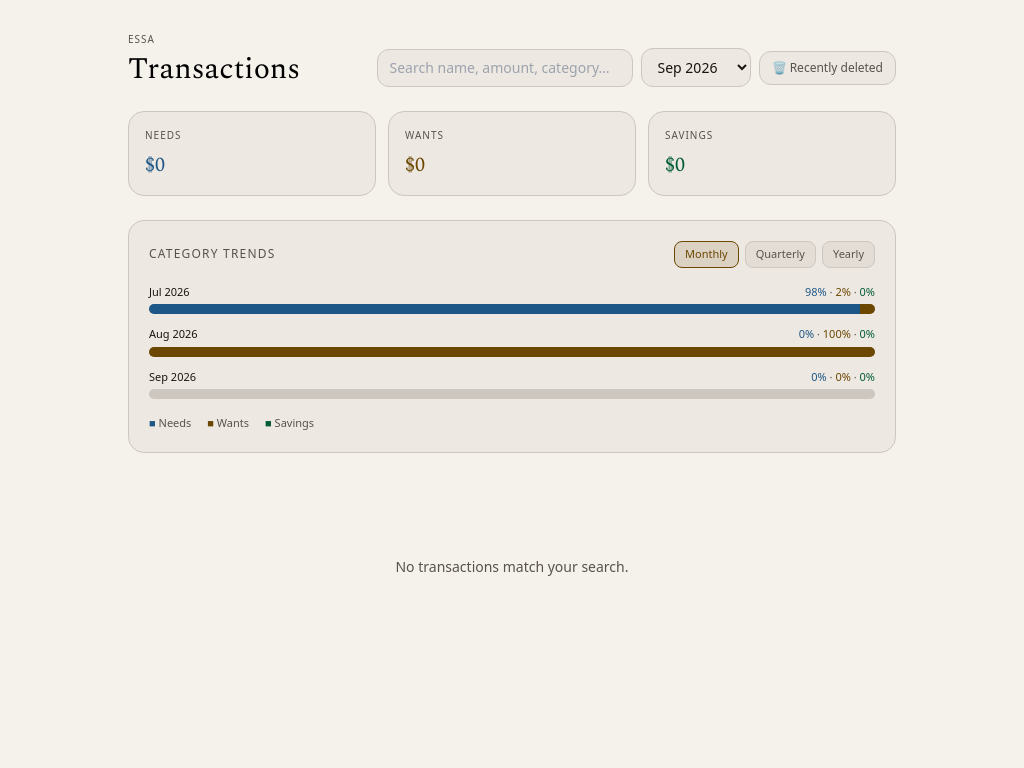
Test: 2. OVERCOUNT — an item that ended before the payday reads active on the 1st › startDay 1: the same fixture DOES contribute — it ran for part of that month
Select "Jul 2026" in the dropdown: (696, 68) [640,48,750,87]
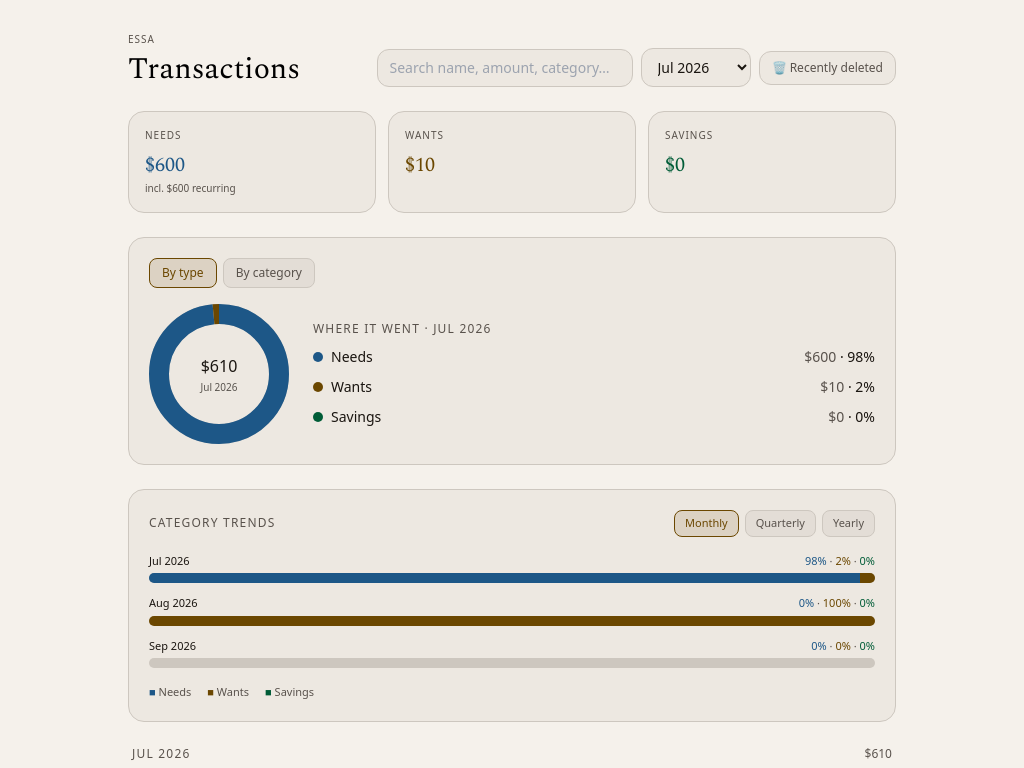
Result: the text "incl. $600 recurring" is shown at [145,181,236,195]
